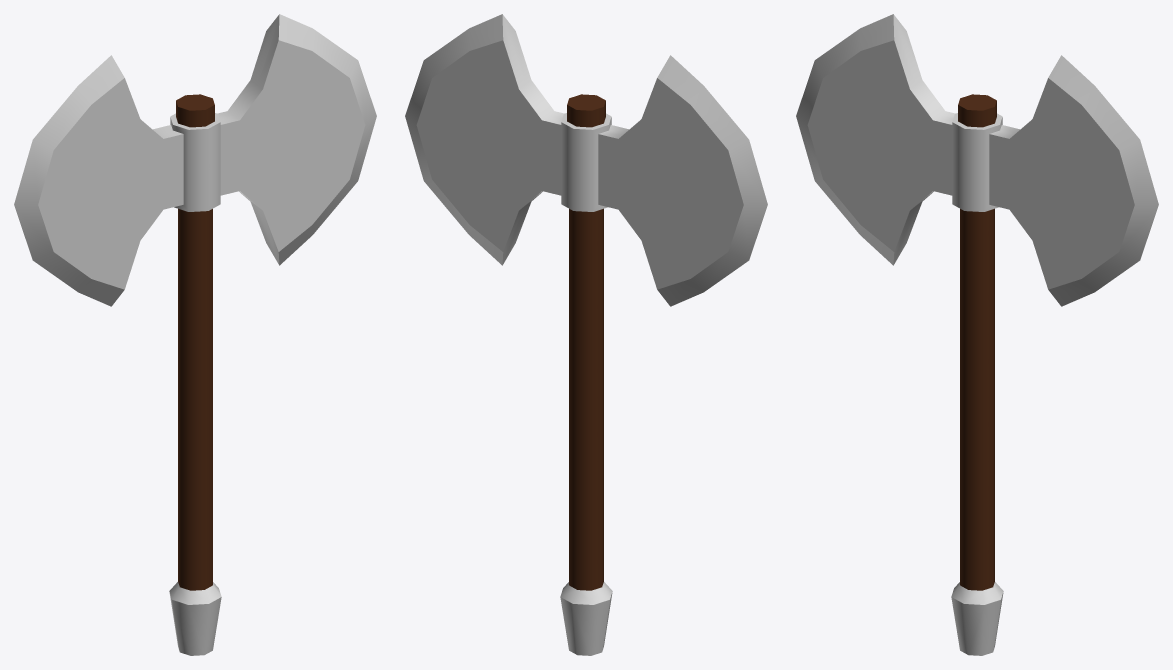
The model's file is Axe.fbx.
The picture shows the model from 3 angles, left to right: view 1: azimuth 30°, elevation 25°; view 2: azimuth 150°, elevation 25°; view 3: azimuth 330°, elevation 25°; orthographic projection.
Parts seen in each view (by area): view 1: Circle.006; view 2: Circle.006; view 3: Circle.006.
Part boxes in pixels (x1,y1,x2,y2): Circle.006: (14,14,376,655); Circle.006: (405,14,767,655); Circle.006: (796,14,1158,655).
Bounding box in the file's own units: 835 × 1351 × 108.
